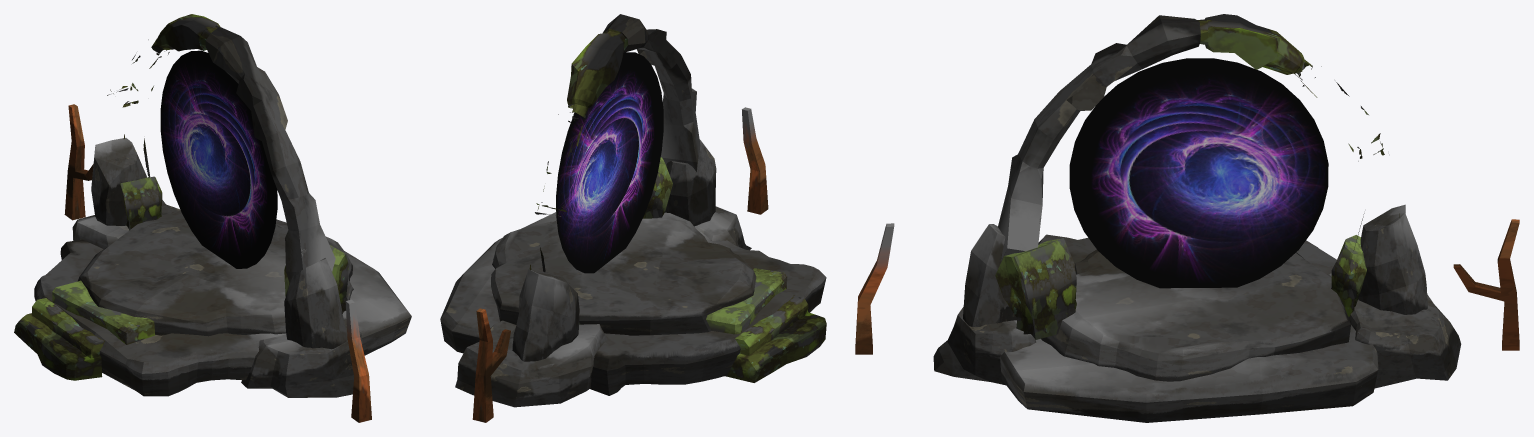
File: Арка для Мишки4.fbx
3 renders of one model, left to right at view 1: azimuth 30°, elevation 25°; view 2: azimuth 150°, elevation 25°; view 3: azimuth 270°, elevation 25°, orthographic. The views are drawn at different scales.
Parts seen in each view (by area): view 1: Arch, Portal; view 2: Arch, Portal; view 3: Arch, Portal.
Boxes of the visible parts, <box> form: Arch: <box>14,14,411,422</box>; Portal: <box>160,50,277,268</box>; Arch: <box>440,14,826,422</box>; Portal: <box>556,52,663,273</box>; Arch: <box>855,14,1519,422</box>; Portal: <box>1069,58,1328,288</box>.
Size of the model in its own units: 256 by 221 by 394.
